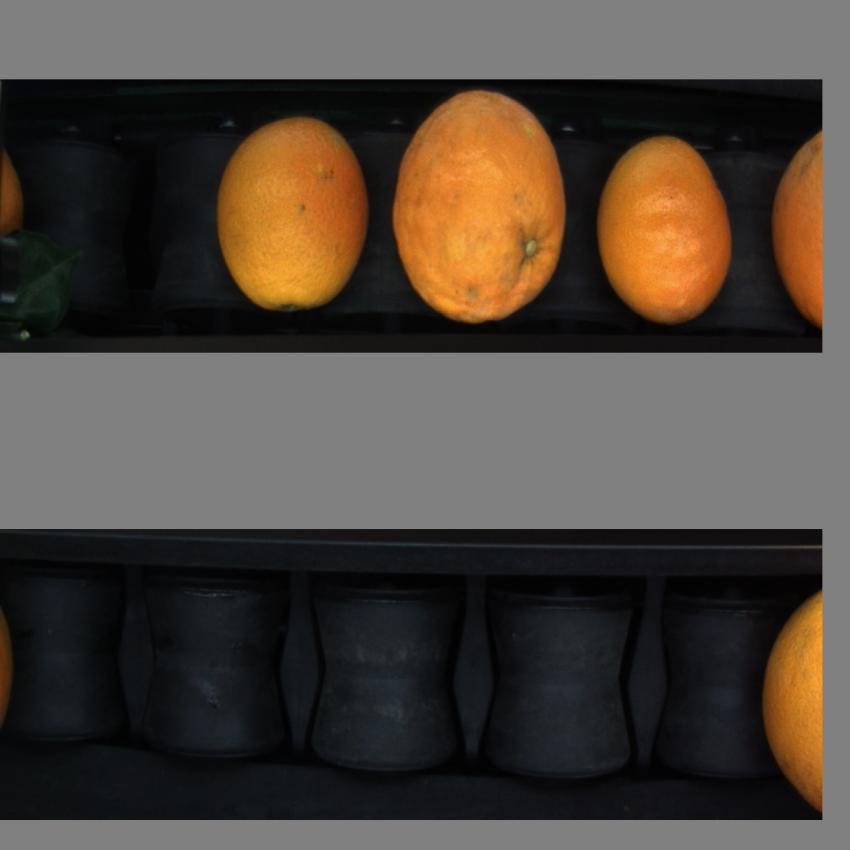Buen estado: (386, 84, 575, 329), (210, 109, 378, 310), (591, 130, 740, 326), (758, 581, 822, 806), (769, 115, 822, 331)
